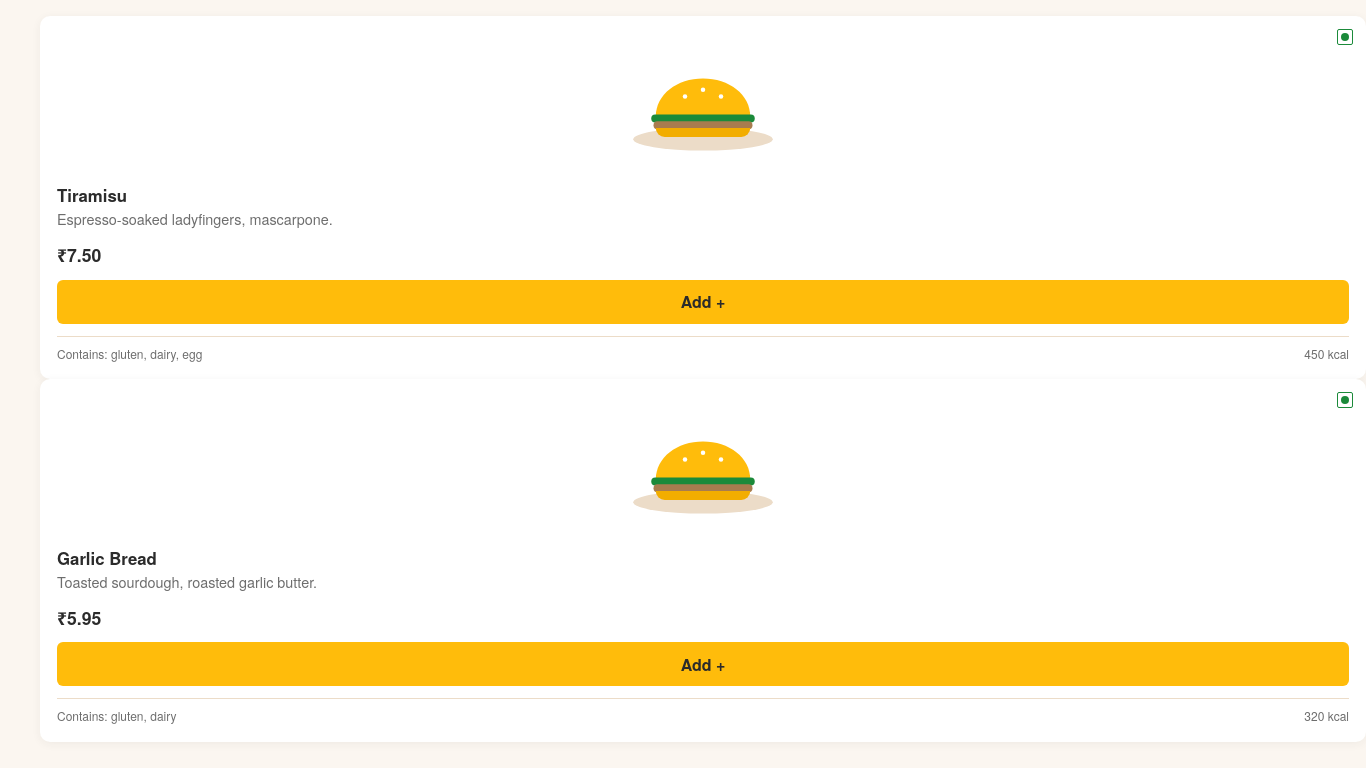
Scenario: MenuItemCard — Add to cart › says Adding… on the card being added and disables every add while in flight
The image size is (1366, 768).
Click the button with aria-label "Add to cart". click: click(703, 302)
box: [57, 280, 1349, 324]
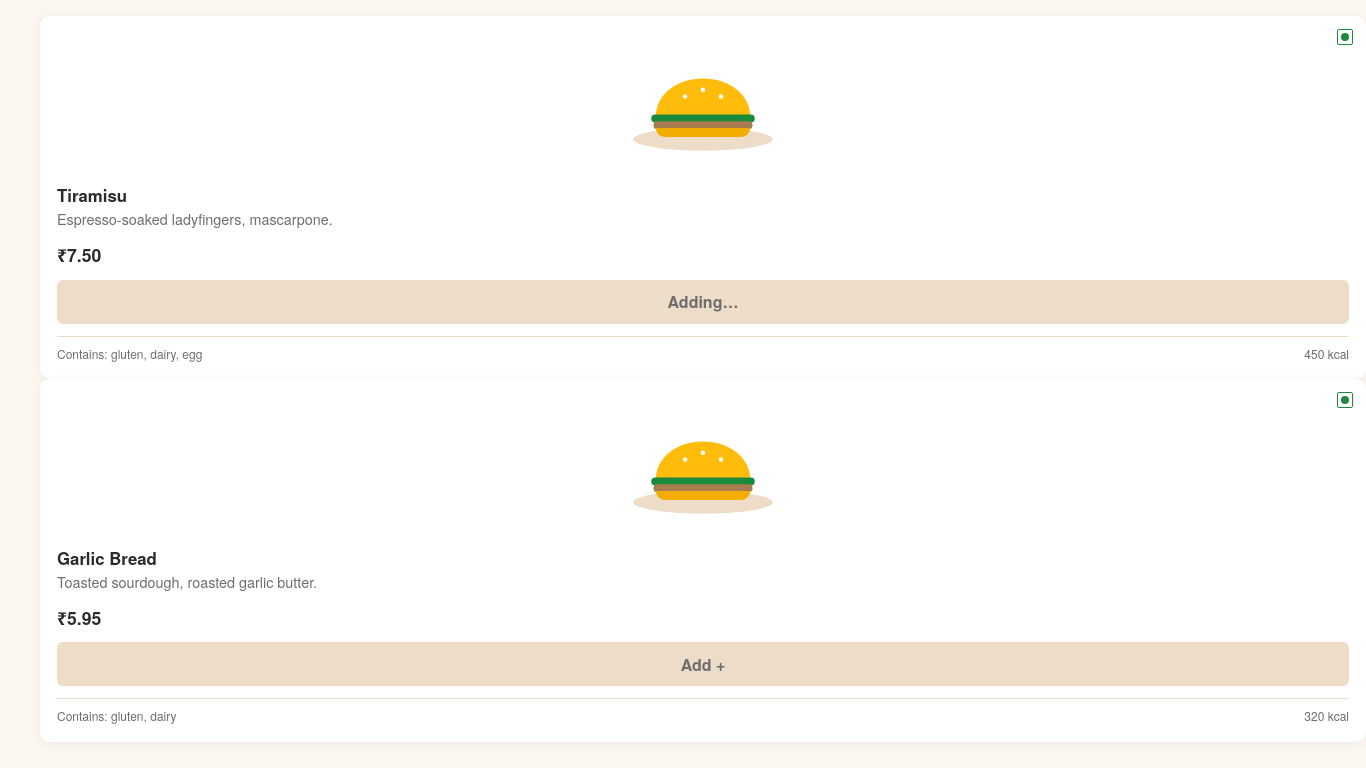
Check: the button "Adding…" is disabled, box [57, 280, 1349, 324]
Check: the button with aria-label "Add to cart" is disabled
Click the button with aria-label "Add to cart". click: click(703, 664)
box: [57, 642, 1349, 686]
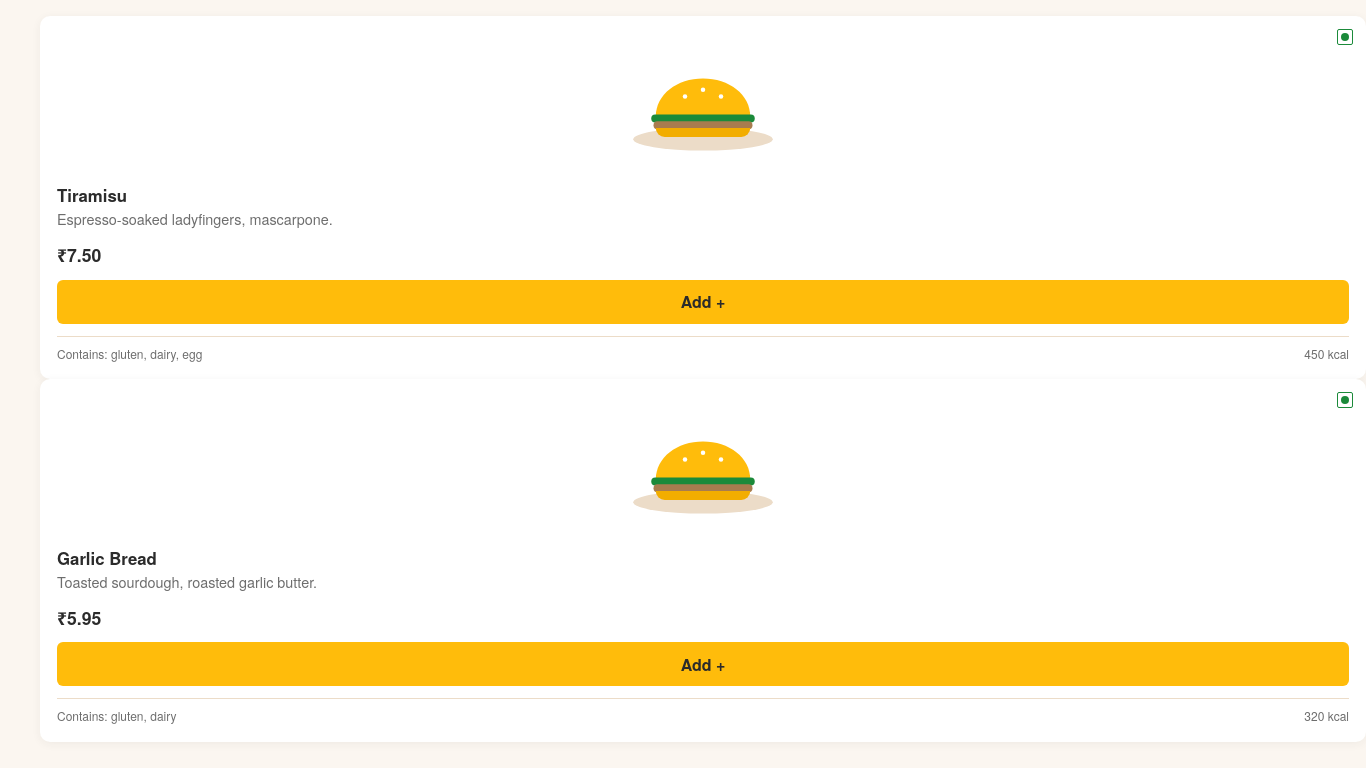
Check: the number of buttons named "Add to cart" is 2, box [57, 280, 1349, 324]; [57, 642, 1349, 686]
Check: the button with aria-label "Add to cart" is enabled, box [57, 280, 1349, 324]
